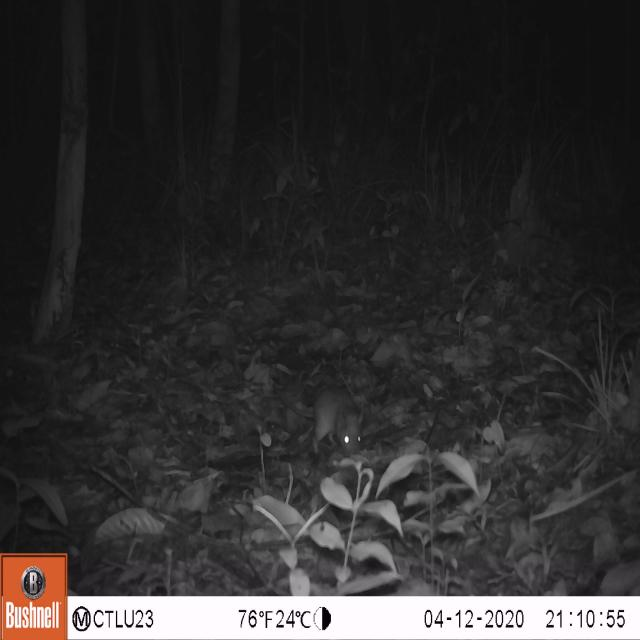Rodent: (294, 368, 388, 474)
